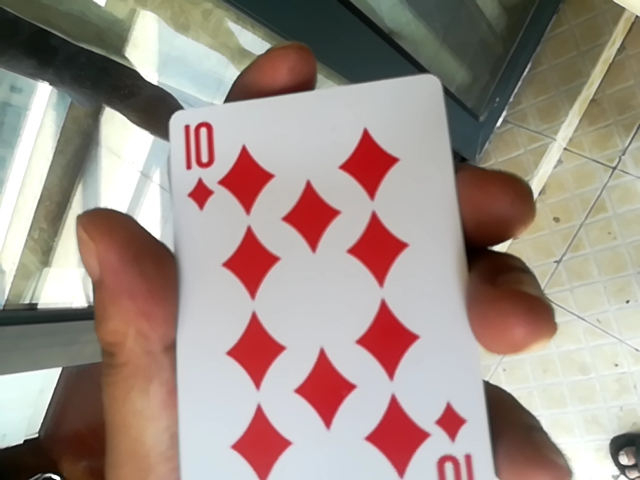fk 10: (96, 55, 474, 480)
